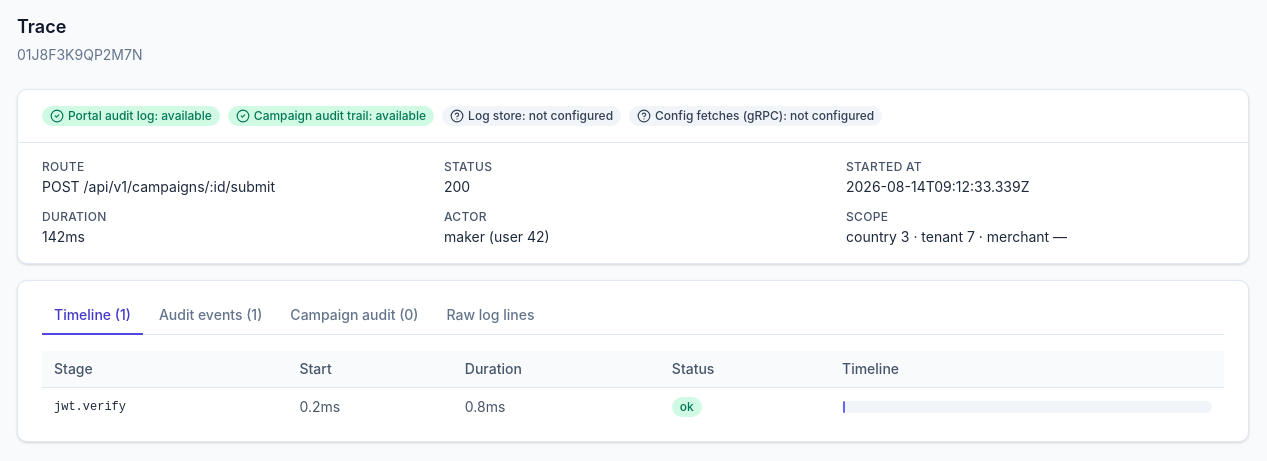
Scenario: the audit-events tab › renders a target when one is present
Expected: the heading "Trace" is shown, [17,16,66,37]
Click the tab "Audit events (1)": click(211, 316) [147,297,274,335]
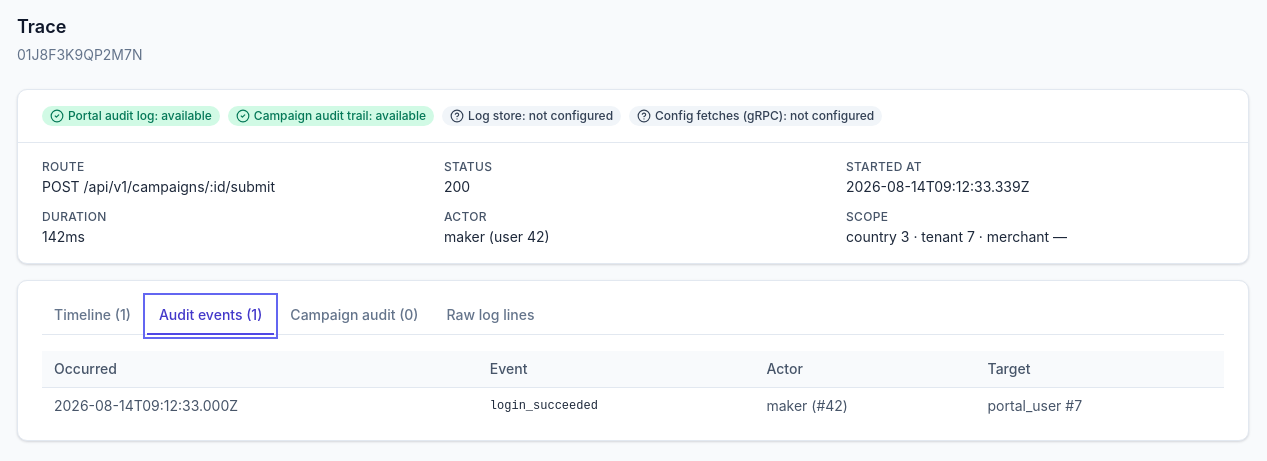
Result: the text "login_succeeded" is shown at [478,388,754,424]
Result: the text "login_succeeded" shows "portal_user" at [988,397,1061,414]
Result: the text "login_succeeded" shows "#7" at [1065,397,1082,414]
